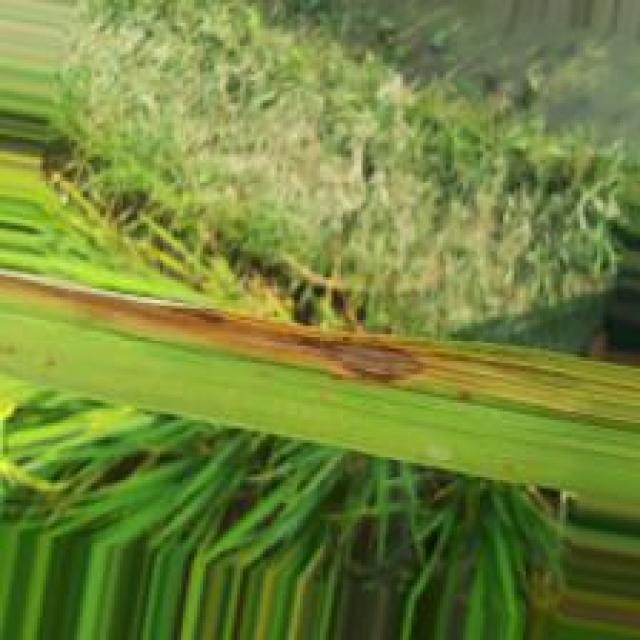Leaf_Blast: (1, 268, 608, 417)
